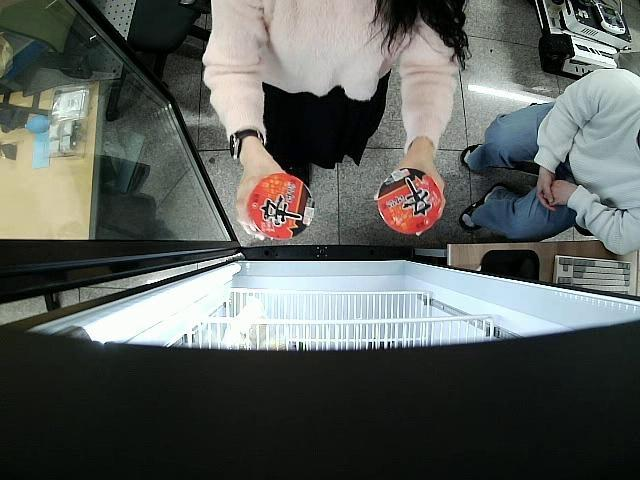02_shinRamen_S: (374, 167, 442, 235), (248, 173, 315, 241)
